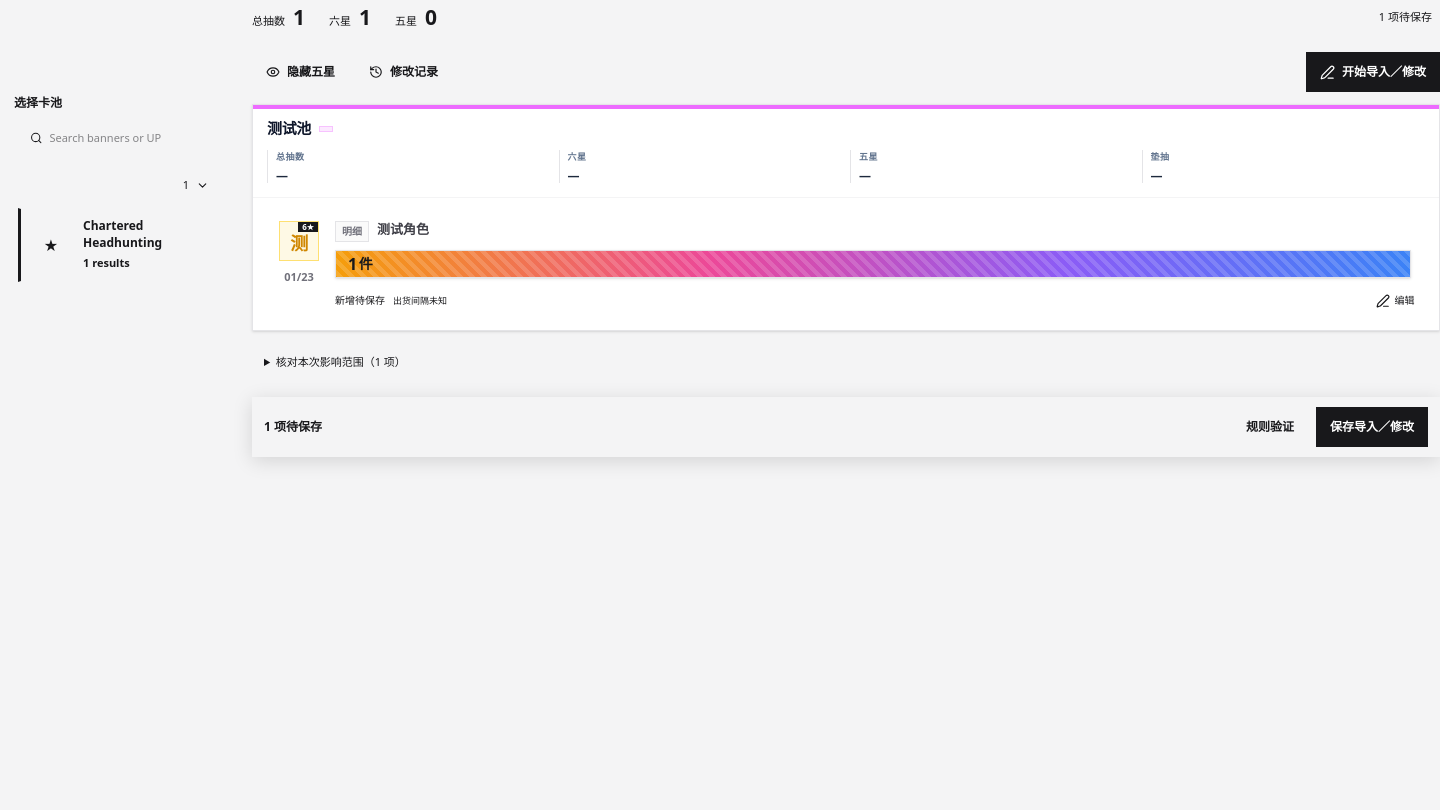
Test: workbench account workspace › separates a successful save from a failed analysis refresh
Check: the button "开始导入／修改" is enabled, box [1306,52,1439,92]
Click the button "规则验证" at (1270, 427), box [1232,407,1308,447]
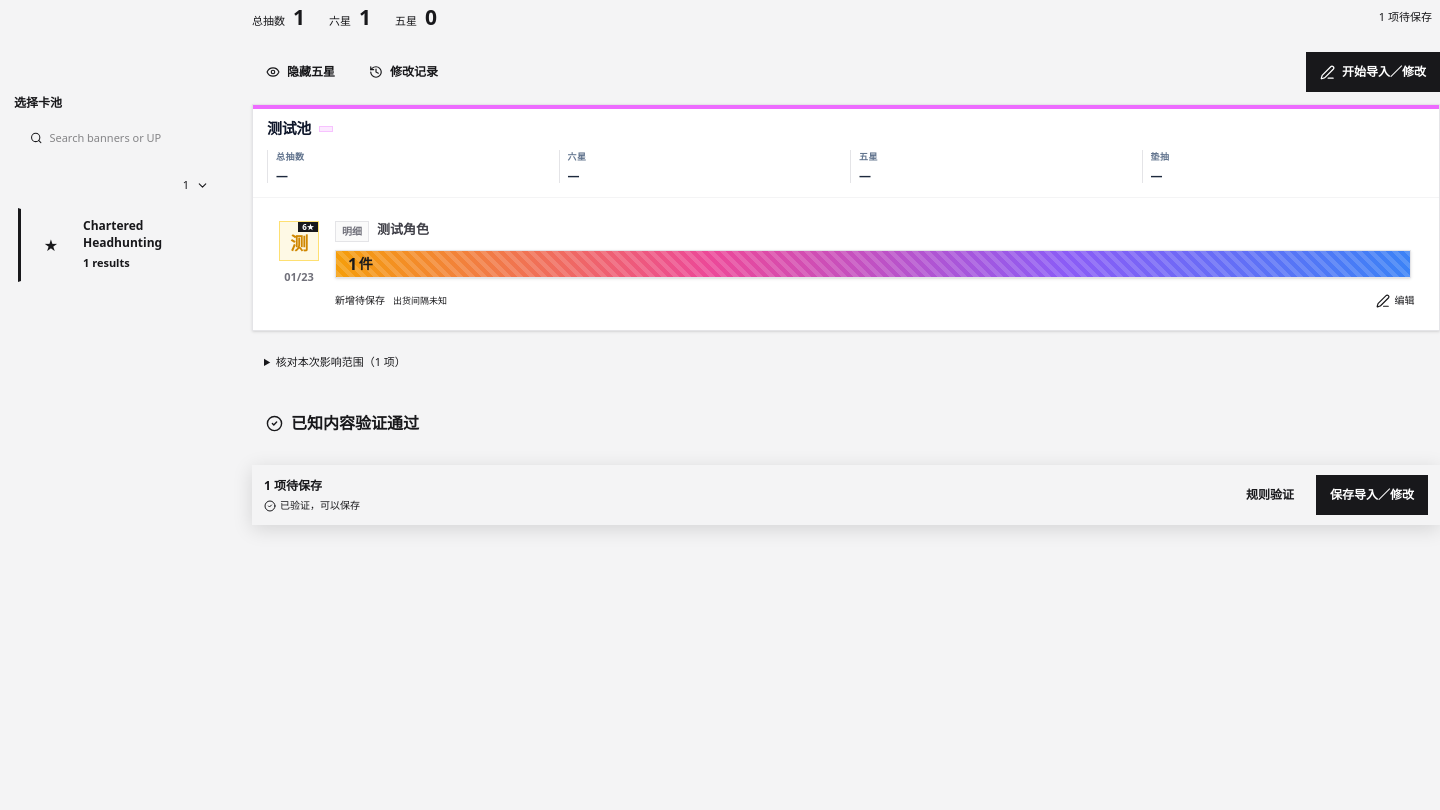
Check: the element named "规则验证结果" is shown, box [266,412,419,434]
Click the button "保存导入／修改" at (1372, 495), box [1316,475,1428,515]
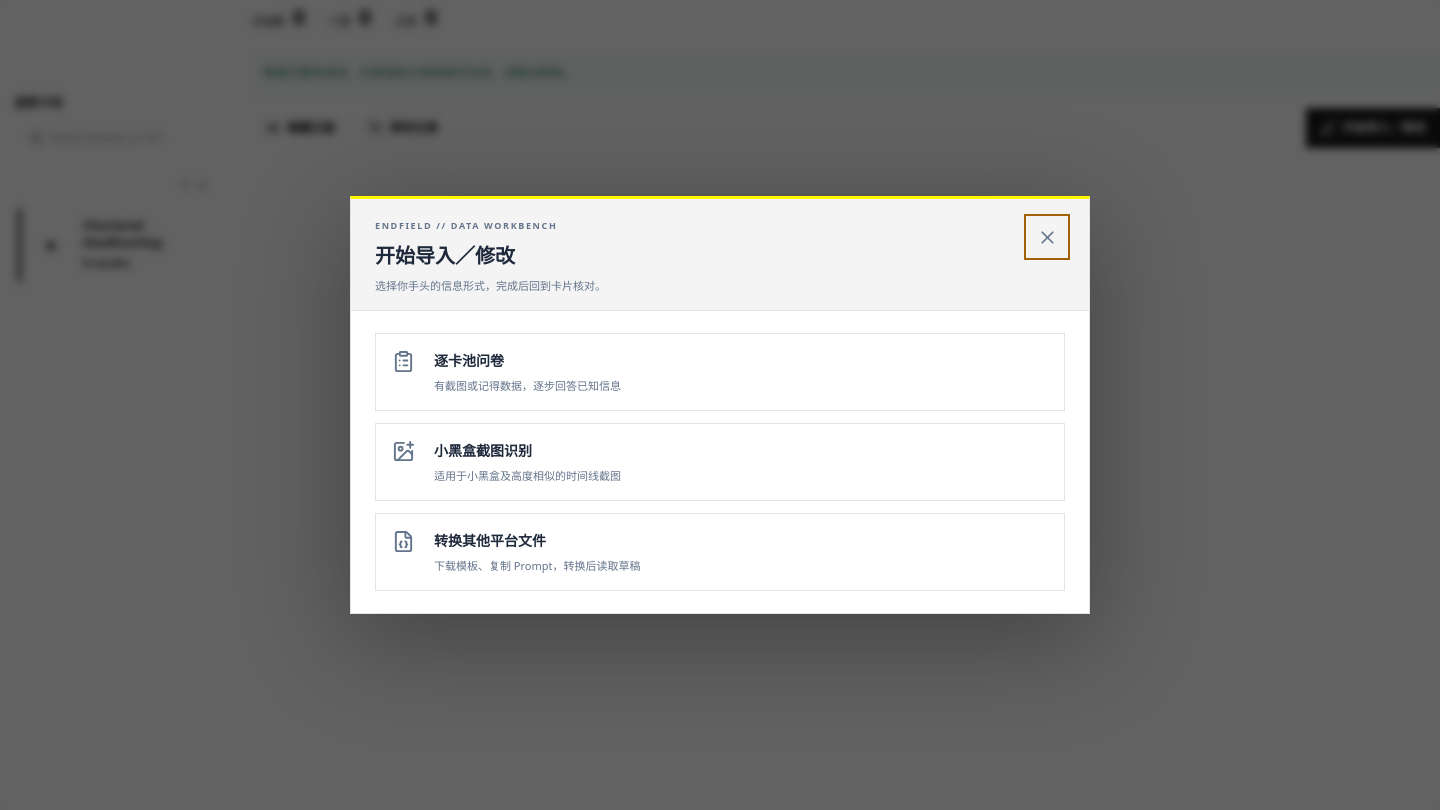
Check: the text "数据已整体保存，列表或统计刷新暂时失败，请重试刷新。" is shown, box [252,52,1439,94]
